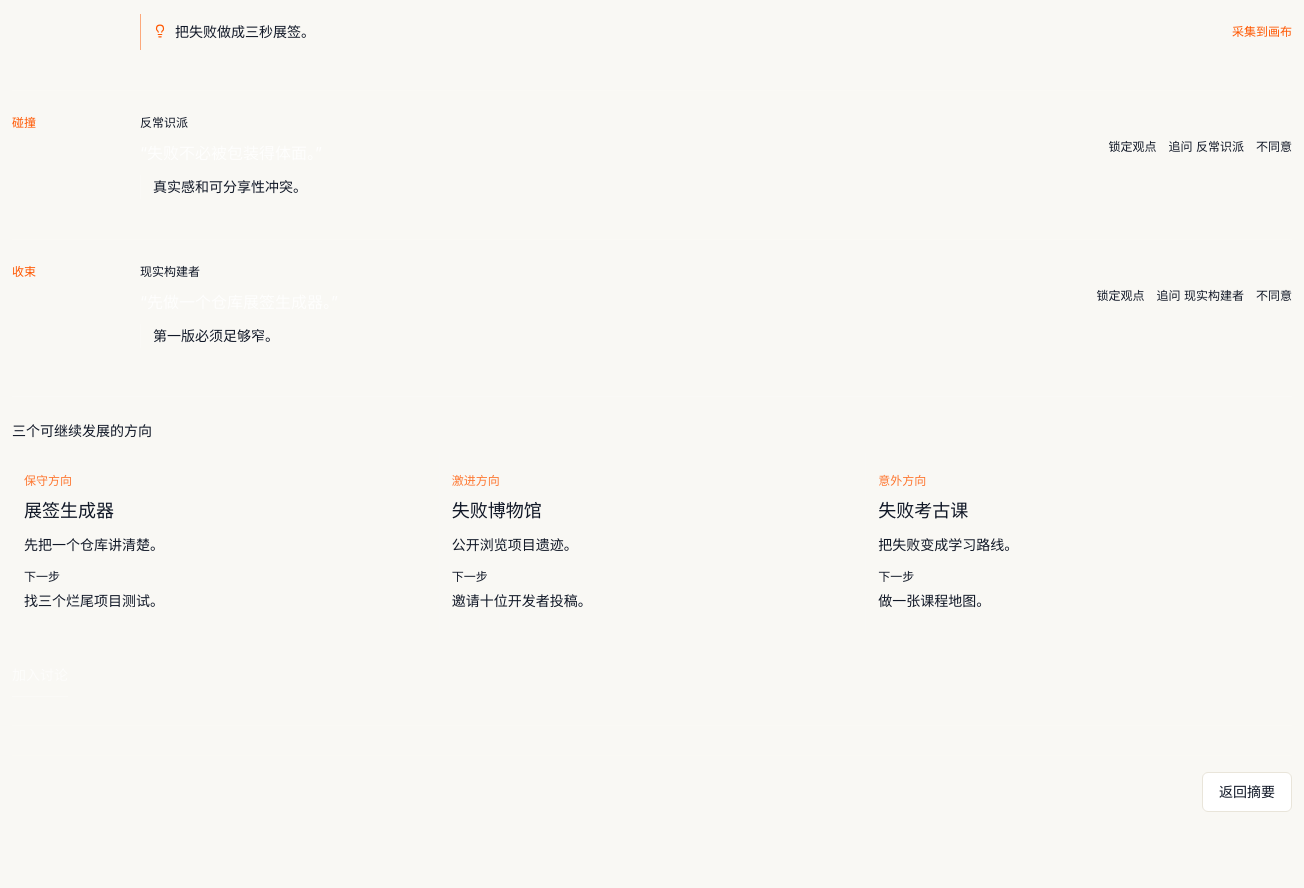
idea discussion panel › switches between discussion history and preserves each session's collected sparks
The image size is (1304, 888).
(page scrolled)
Expected: the text "旧场意外方向" is not shown
Click the button "激进方向 失败博物馆 公开浏览项目遗迹。 下一步 邀请十位开发者投稿。".
click(476, 481)  # box [439,454,865,634]
(page scrolled)
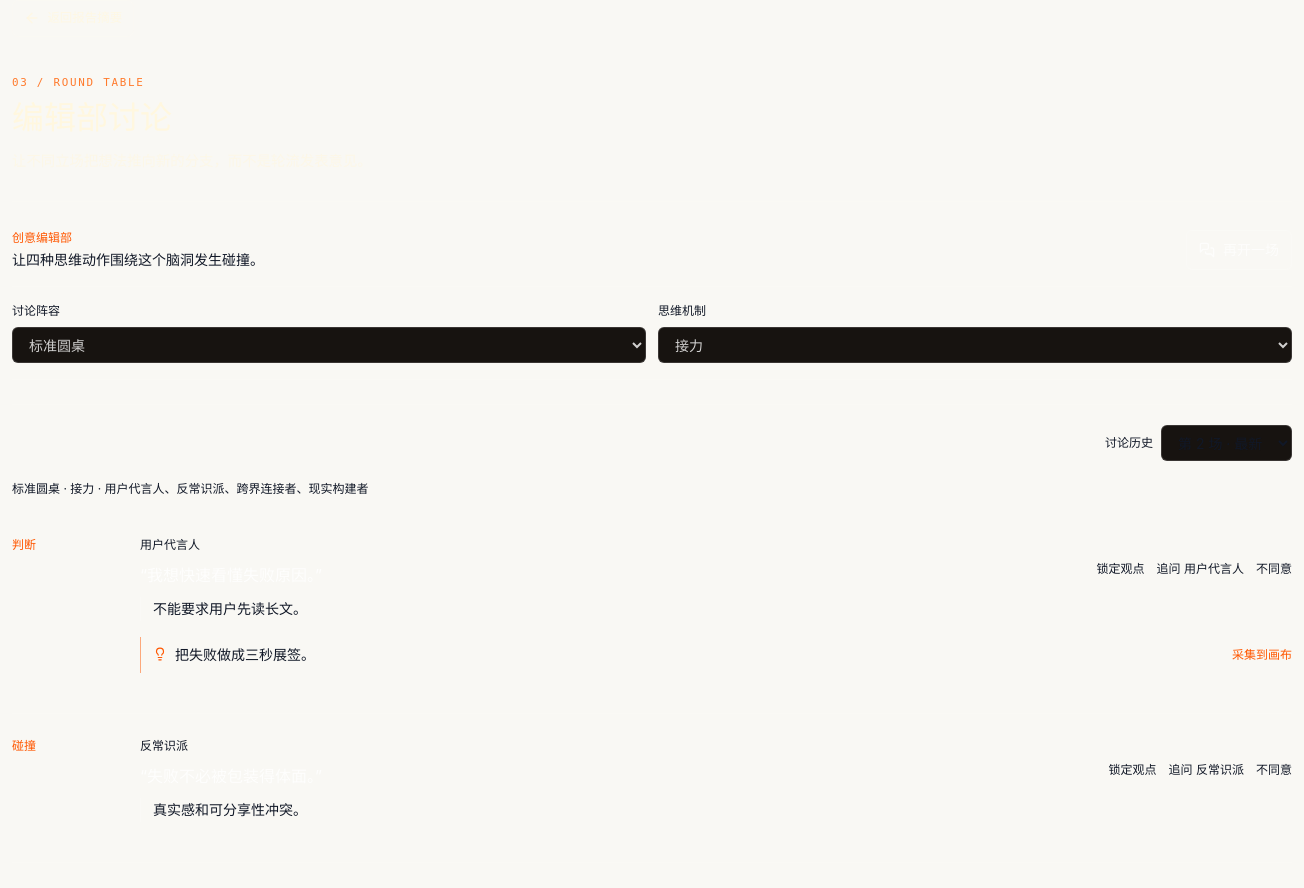
Select "第 1 场" in the dropdown labelled "讨论历史" at (1226, 444), box [1161,426,1292,462]
(page scrolled)
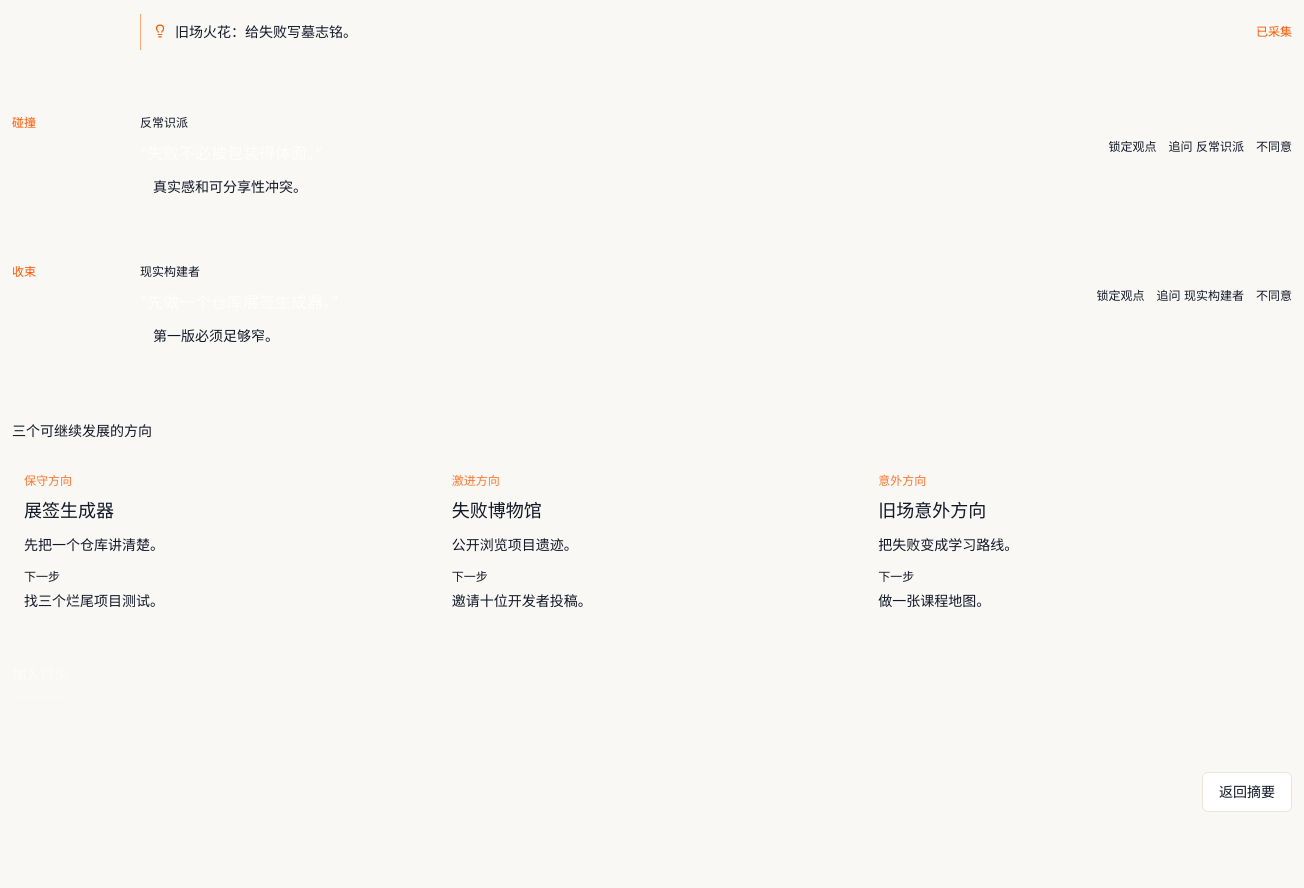
Expected: the heading "旧场意外方向" is shown, [878,500,986,522]
Expected: the text "旧场火花：给失败写墓志铭。" is shown, [153,20,357,44]
Expected: the button with aria-label "已采集 旧场火花：给失败写墓志铭。" is disabled, [1256,14,1292,50]
Click the button "意外方向 旧场意外方向 把失败变成学习路线。 下一步 做一张课程地图。".
click(902, 481)  # box [865,454,1292,634]
(page scrolled)
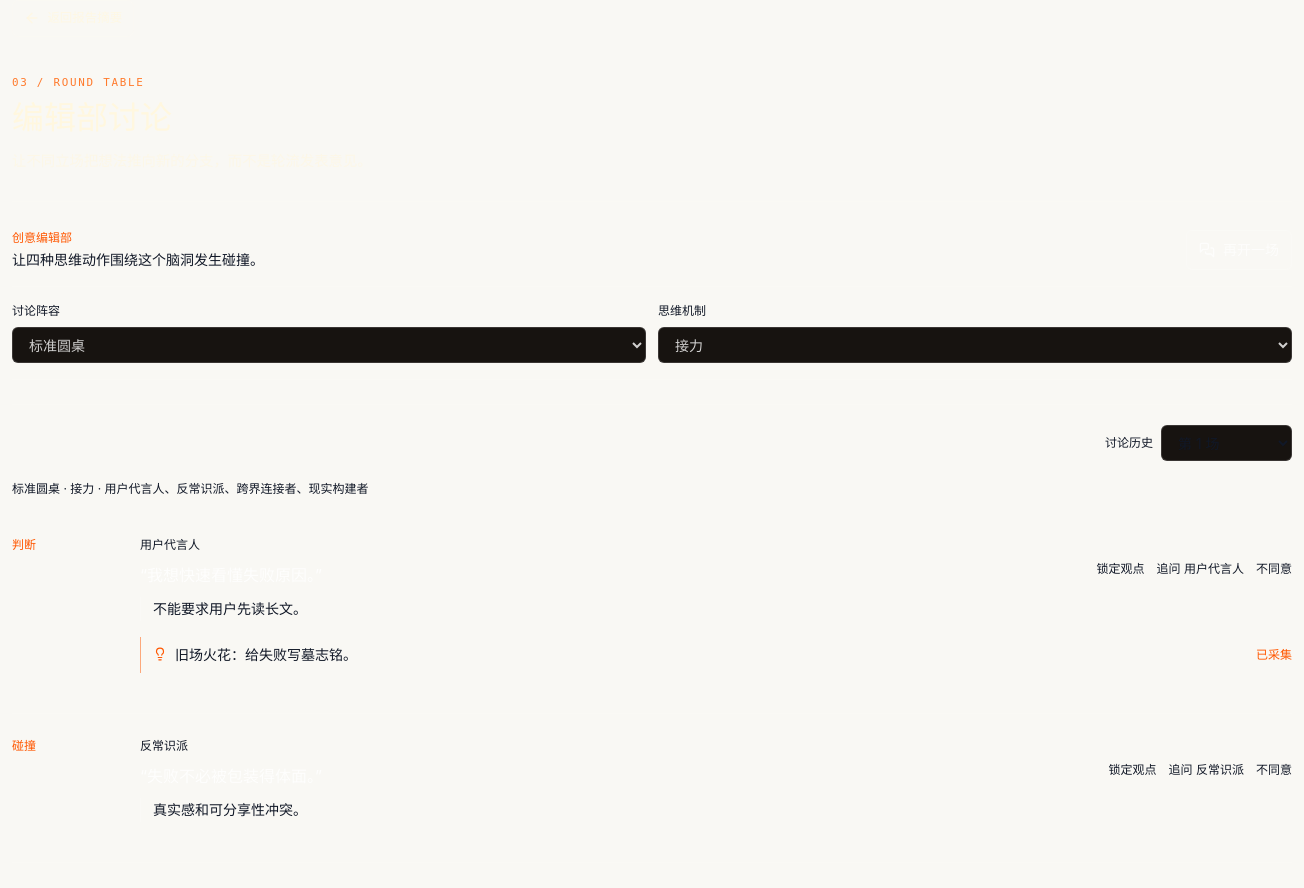
Select "第 2 场 · 最新" in the dropdown labelled "讨论历史" at (1226, 444), box [1161,426,1292,462]
(page scrolled)
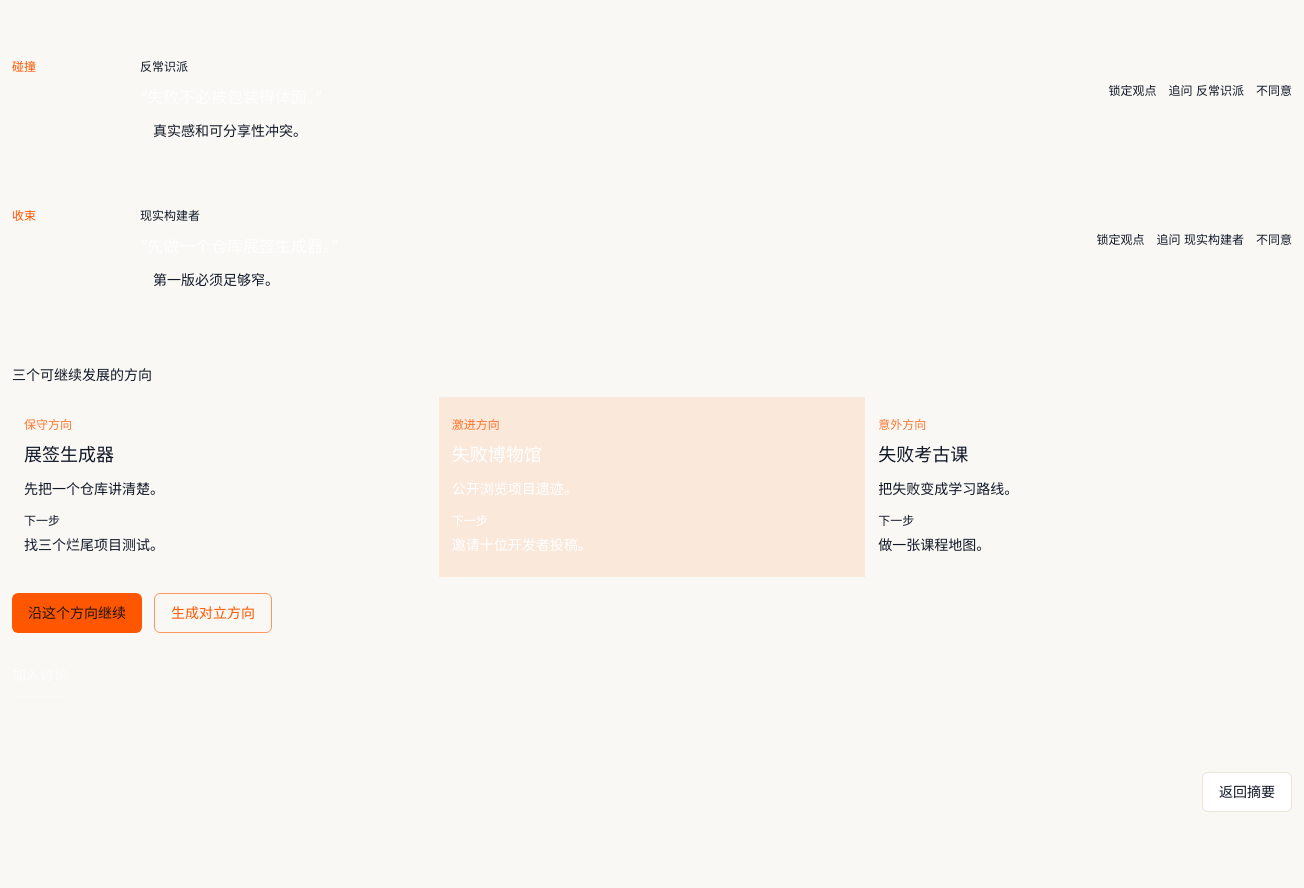
Expected: the button "激进方向 失败博物馆 公开浏览项目遗迹。 下一步 邀请十位开发者投稿。" is pressed, [439,398,865,578]
